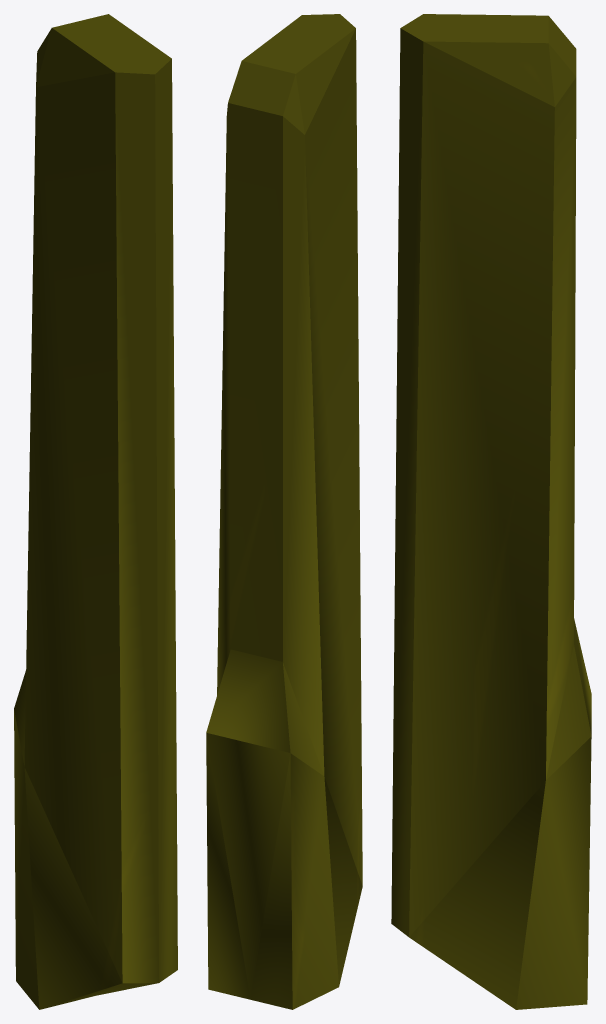
File: Pistol_Body_01.fbx
The picture shows the model from 3 angles, left to right: view 1: azimuth 30°, elevation 25°; view 2: azimuth 150°, elevation 25°; view 3: azimuth 270°, elevation 25°; orthographic projection. The views are drawn at different scales.
Parts seen in each view (by area): view 1: 立方体; view 2: 立方体; view 3: 立方体.
Part boxes in pixels (box(x1,y1,x2,y2)): 立方体: box(14, 14, 177, 1009); 立方体: box(206, 14, 362, 1009); 立方体: box(391, 14, 591, 1009).
Bounding box in the file's own units: 73.12 × 592 × 112.
